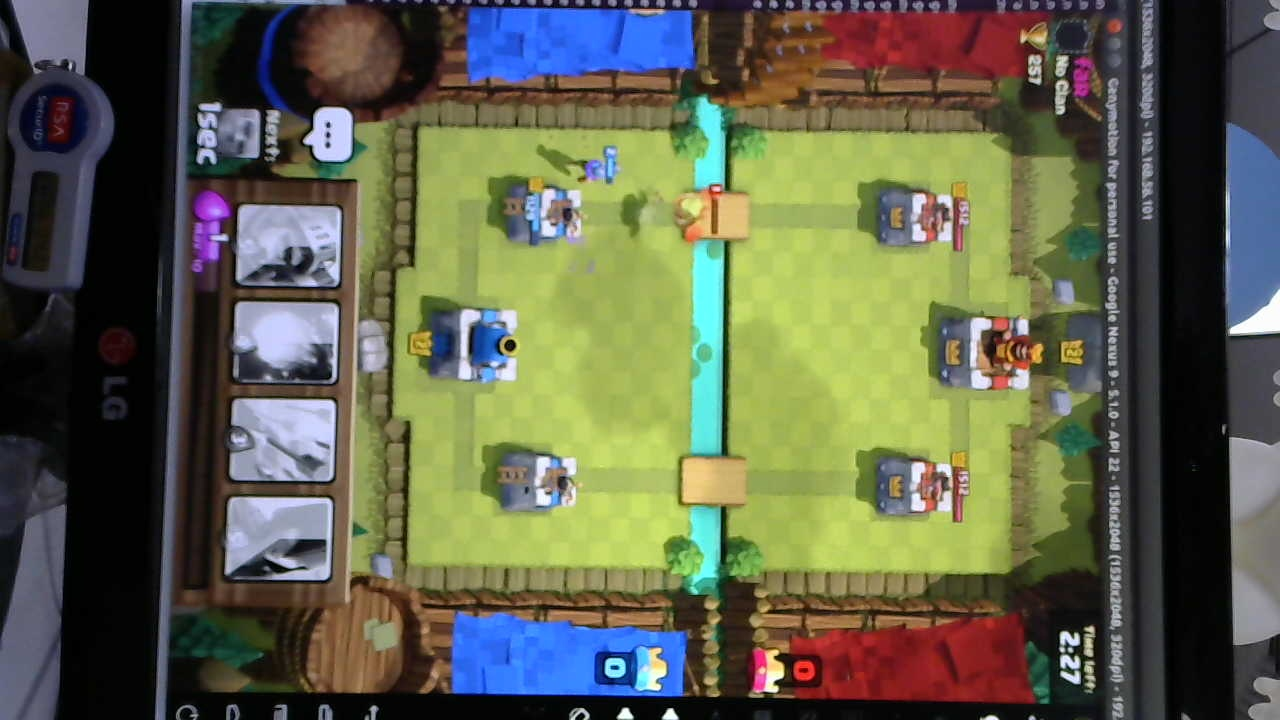arena: (508, 179, 589, 248), (497, 450, 585, 511)
dragon: (668, 182, 712, 237)
earena: (870, 184, 959, 252), (873, 455, 956, 523)
eking: (936, 310, 1044, 396)
king: (430, 300, 528, 388)
musketeer: (574, 152, 611, 183)
